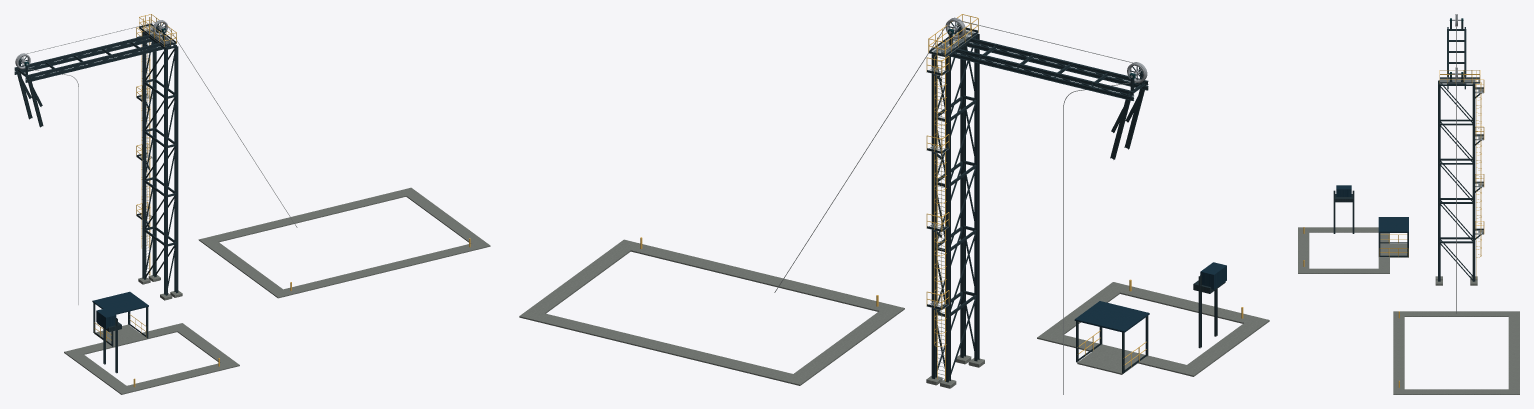
File: mine-production-links.glb
The picture shows the model from 3 angles, left to right: view 1: azimuth 30°, elevation 25°; view 2: azimuth 150°, elevation 25°; view 3: azimuth 270°, elevation 25°; orthographic projection. The views are drawn at different scales.
Visible parts, largest first — view 1: static__Core_steel, static__Core_concrete, static__Core_safety, static__Core_roof, static__Core_trim, hoist-rope-fixed__Core_rope; view 2: static__Core_steel, static__Core_concrete, static__Core_safety, static__Core_roof, static__Core_trim, hoist-rope-fixed__Core_rope; view 3: static__Core_concrete, static__Core_steel, static__Core_safety, static__Core_roof, static__Core_trim, hoist-rope-fixed__Core_rope.
Boxes of the visible parts, left/top/right/bottom form: static__Core_steel: left=14, top=23, right=178, bottom=373; static__Core_concrete: left=64, top=187, right=490, bottom=394; static__Core_safety: left=94, top=14, right=470, bottom=387; static__Core_roof: left=92, top=291, right=148, bottom=328; static__Core_trim: left=137, top=25, right=174, bottom=274; hoist-rope-fixed__Core_rope: left=16, top=21, right=297, bottom=227; static__Core_steel: left=927, top=27, right=1225, bottom=382; static__Core_concrete: left=519, top=239, right=1269, bottom=388; static__Core_safety: left=640, top=14, right=1243, bottom=381; static__Core_roof: left=1074, top=262, right=1226, bottom=332; static__Core_trim: left=926, top=29, right=977, bottom=379; hoist-rope-fixed__Core_rope: left=774, top=19, right=1145, bottom=292; static__Core_concrete: left=1298, top=227, right=1519, bottom=394; static__Core_steel: left=1333, top=22, right=1483, bottom=281; static__Core_safety: left=1303, top=70, right=1484, bottom=387; static__Core_roof: left=1336, top=185, right=1408, bottom=232; static__Core_trim: left=1440, top=78, right=1483, bottom=234; hoist-rope-fixed__Core_rope: left=1456, top=14, right=1456, bottom=313.
Bounding box in the file's own units: 46.23 × 27.25 × 25.6.
8 materials, 4 textured.
